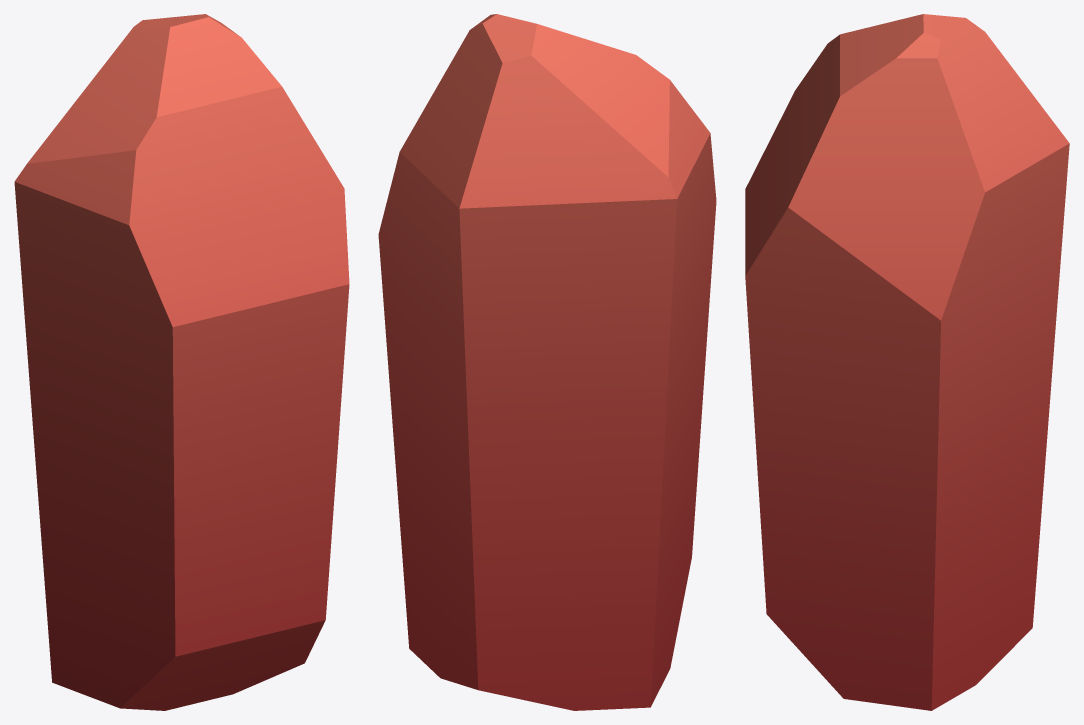
Rendered from Crystal_06.fbx.
3 views of the same model, side by side, from view 1: azimuth 30°, elevation 25°; view 2: azimuth 150°, elevation 25°; view 3: azimuth 270°, elevation 25° (orthographic). The views are drawn at different scales.
Parts seen in each view (by area): view 1: Crystal_06; view 2: Crystal_06; view 3: Crystal_06.
Part boxes in pixels (<box>): Crystal_06: <box>14,14,349,710</box>; Crystal_06: <box>378,14,716,710</box>; Crystal_06: <box>745,14,1069,710</box>.
Size of the model in its own units: 0.8444 by 1.83 by 0.8078.
